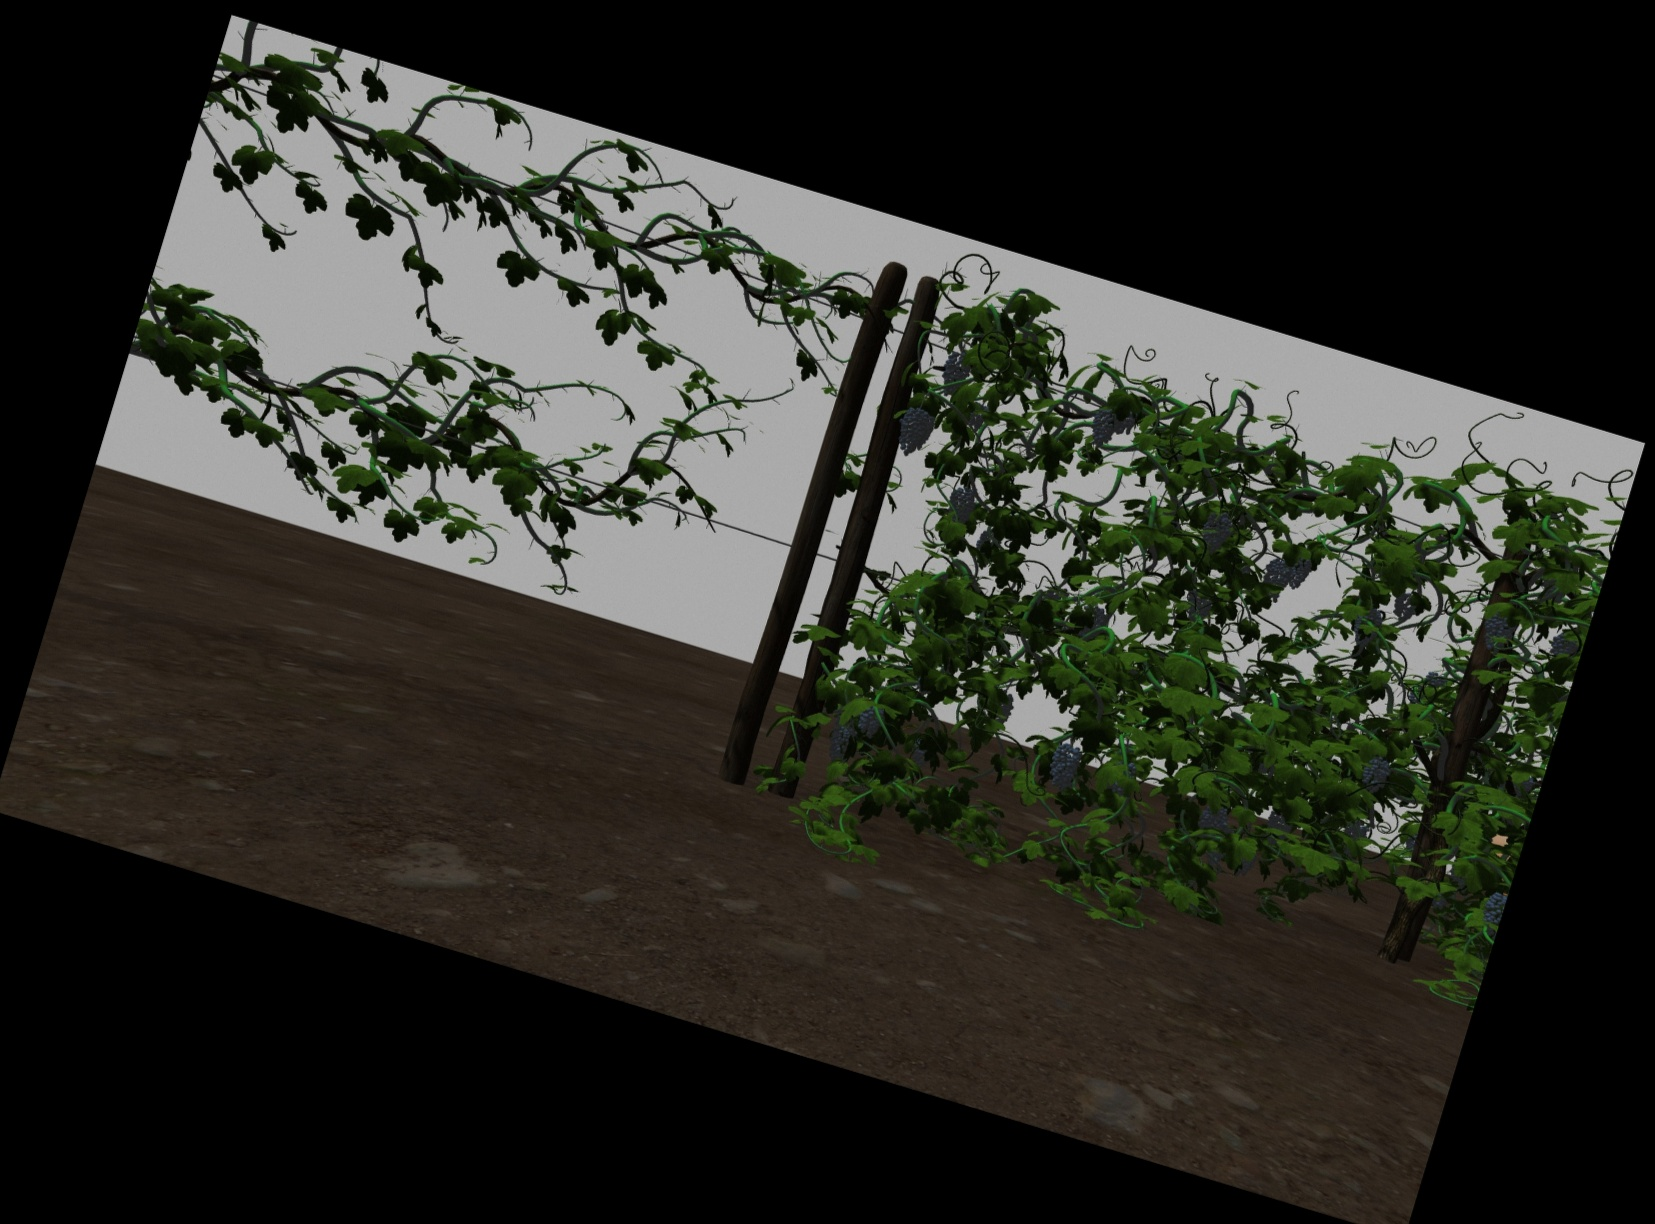grape: (900, 409, 931, 456), (1481, 611, 1514, 652), (1051, 743, 1079, 789), (1202, 510, 1231, 552), (1362, 753, 1390, 792), (943, 354, 967, 396), (948, 485, 975, 522), (1355, 607, 1381, 645), (1198, 805, 1233, 832), (1092, 408, 1116, 444), (828, 725, 851, 761), (1289, 552, 1310, 589), (859, 705, 883, 737), (1265, 555, 1289, 589), (1481, 890, 1501, 930), (1393, 591, 1416, 621), (1114, 408, 1135, 435), (1424, 670, 1444, 688)
